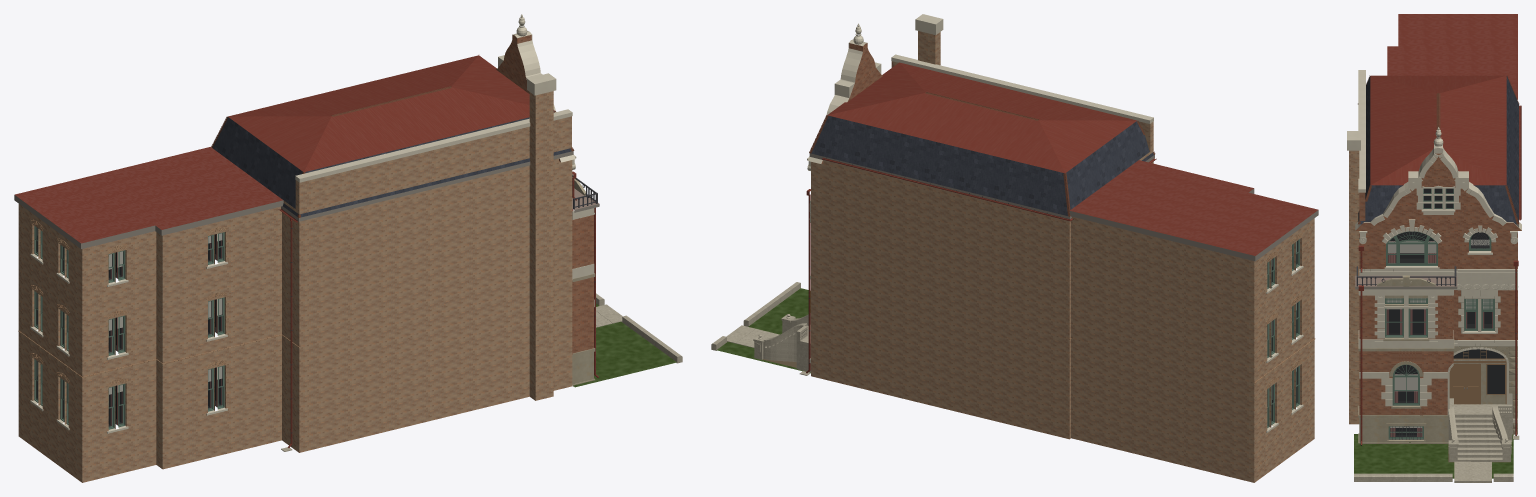
Rendered from wheeler_house_1812_prairie__as_built_1884.glb.
The picture shows the model from 3 angles, left to right: view 1: azimuth 30°, elevation 25°; view 2: azimuth 150°, elevation 25°; view 3: azimuth 270°, elevation 25°; orthographic projection. The views are drawn at different scales.
Visible parts, largest first — view 1: wheeler_house_1812_prairie__as_built_1884; view 2: wheeler_house_1812_prairie__as_built_1884; view 3: wheeler_house_1812_prairie__as_built_1884.
Part boxes in pixels (bbox=[...]): wheeler_house_1812_prairie__as_built_1884: bbox=[14, 14, 682, 482]; wheeler_house_1812_prairie__as_built_1884: bbox=[711, 14, 1318, 482]; wheeler_house_1812_prairie__as_built_1884: bbox=[1347, 14, 1521, 482].
Size of the model in its own units: 31.95 by 18.08 by 9.36.
31 materials, 20 textured.
